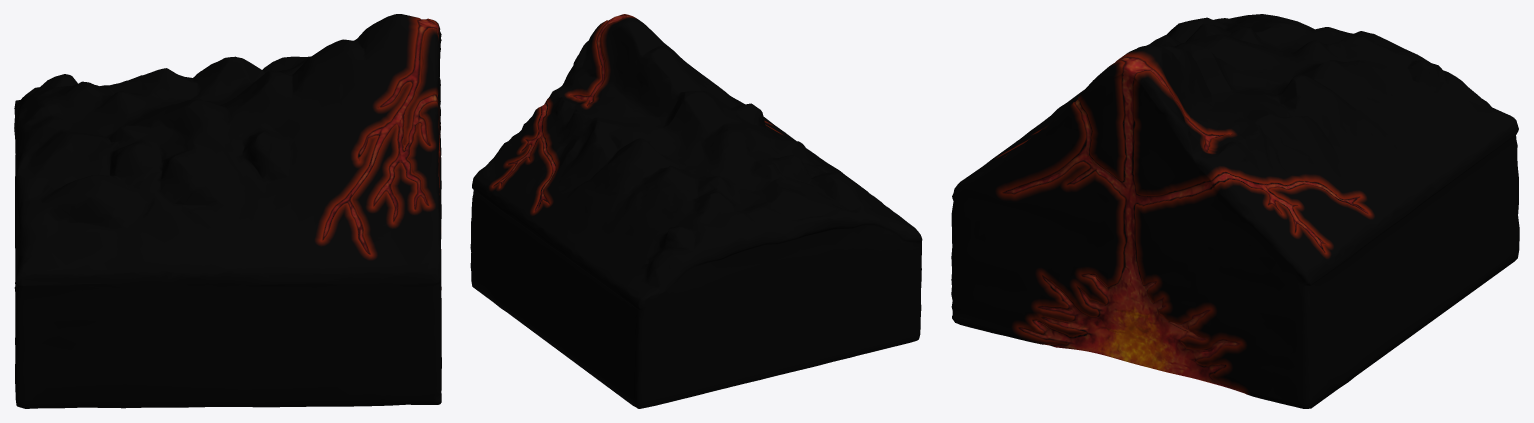
File: volcano.gltf
The picture shows the model from 3 angles, left to right: view 1: azimuth 30°, elevation 25°; view 2: azimuth 150°, elevation 25°; view 3: azimuth 270°, elevation 25°; orthographic projection. The views are drawn at different scales.
Parts seen in each view (by area): view 1: volcano_section.1; view 2: volcano_section.1; view 3: volcano_section.1.
Boxes of the visible parts, box(x1,y1,x2,y2) form: volcano_section.1: box(14, 14, 441, 408); volcano_section.1: box(470, 14, 922, 408); volcano_section.1: box(951, 14, 1519, 408).
Bounding box in the file's own units: 2.91 × 1.73 × 2.88.
Materials: 1 (1 with a texture image).
